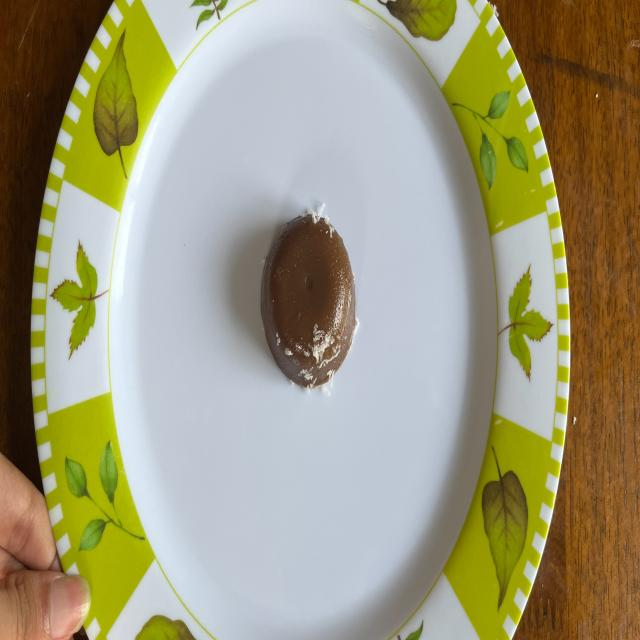Kuih lompang: (261, 211, 355, 389)
